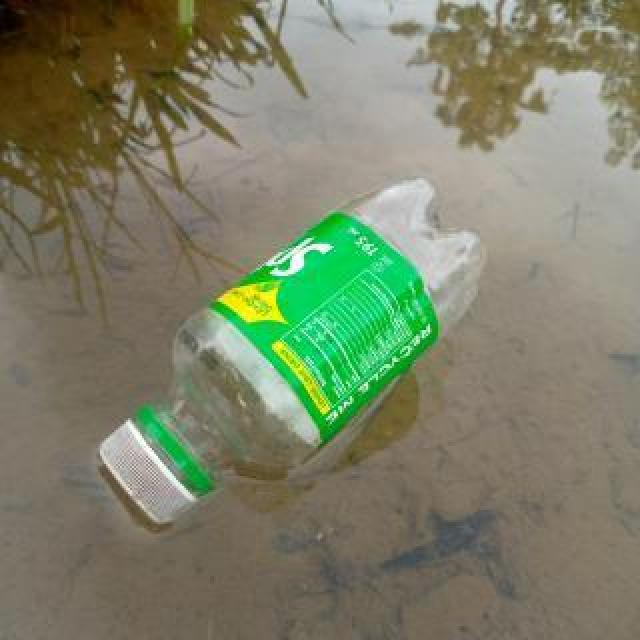bottle: (95, 171, 491, 533)
